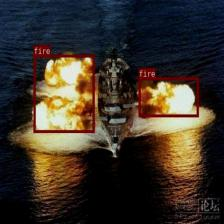fire: (33, 54, 94, 132), (138, 77, 198, 116)
